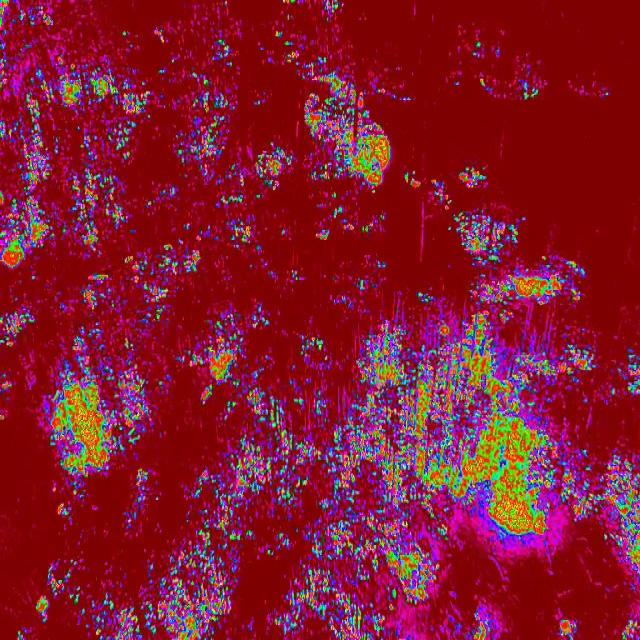fire: (0, 0, 399, 478), (36, 476, 437, 640), (399, 272, 640, 537), (449, 29, 554, 100), (452, 213, 527, 266), (404, 166, 496, 204), (471, 602, 501, 640), (610, 538, 640, 576), (554, 615, 580, 637), (617, 621, 640, 640)
